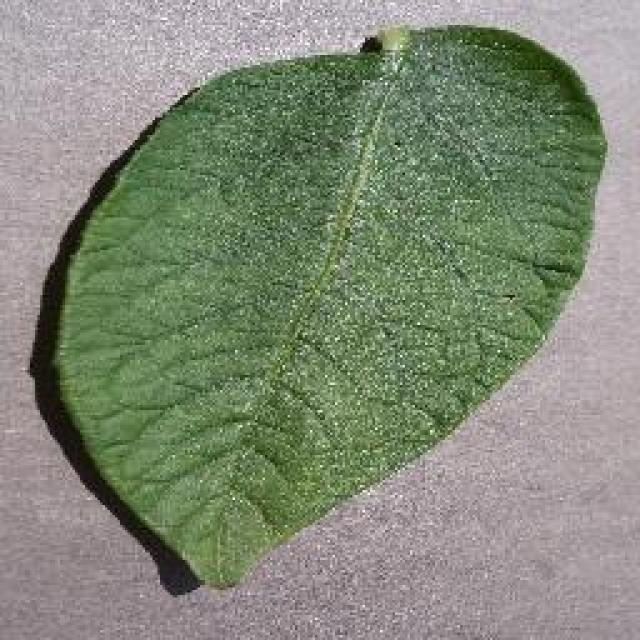Potato___healthy: (50, 21, 608, 592)
